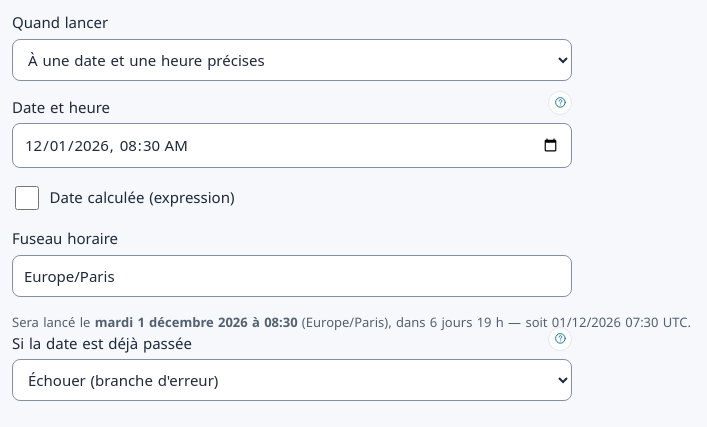
Programmer : quand lancer › change la date et le fuseau, et recalcule l'aperçu
Replace the text in the field labelled "Fuseau horaire" with "UTC": (292, 276) [12,255,572,297]
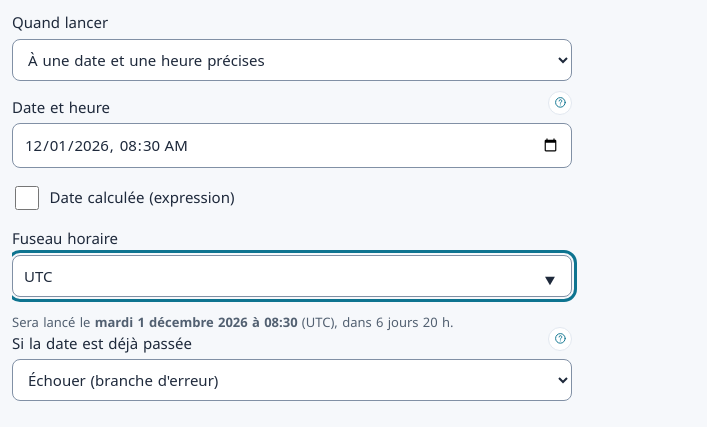
Check: the message shows "(UTC)", box [306,313,330,331]
Check: the message no longer shows "soit", box [12,313,454,331]
In the field labelled "Fuseau horaire": (292, 276) [12,255,572,297], type "x"
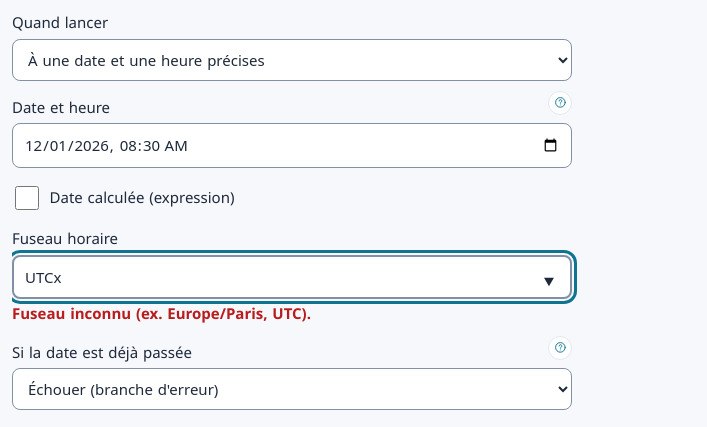
Check: the text "Fuseau inconnu (ex. Europe/Paris, UTC)." is shown, box [12,304,311,324]
Check: the message is gone
